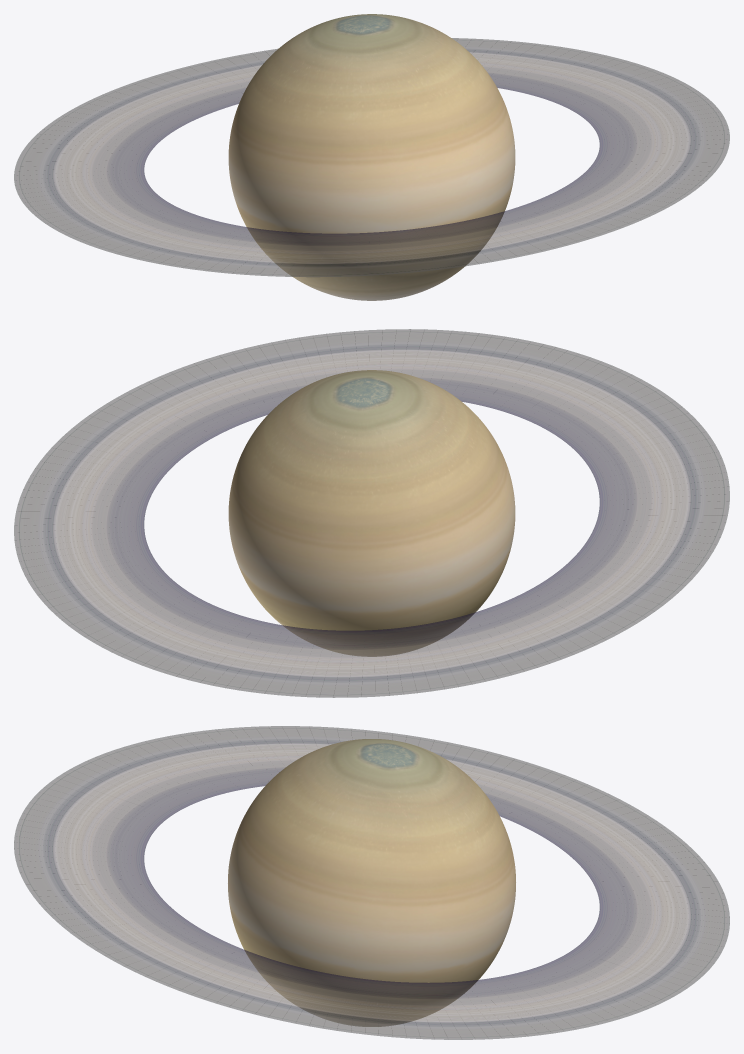
The model's file is saturn.glb.
3 renders of one model, top to bottom at view 1: azimuth 30°, elevation 25°; view 2: azimuth 150°, elevation 25°; view 3: azimuth 270°, elevation 25°, orthographic.
Parts seen in each view (by area): view 1: Mesh (7), Earth; view 2: Mesh (7), Earth; view 3: Mesh (7), Earth.
Part boxes in pixels (x1,y1,x2,y2): Mesh (7): (14, 38, 729, 277); Earth: (228, 14, 515, 300); Mesh (7): (14, 329, 729, 697); Earth: (228, 370, 515, 656); Mesh (7): (14, 726, 729, 1039); Earth: (228, 739, 515, 1026).
Size of the model in its own units: 250 by 100 by 248.
2 materials, 2 textured.
